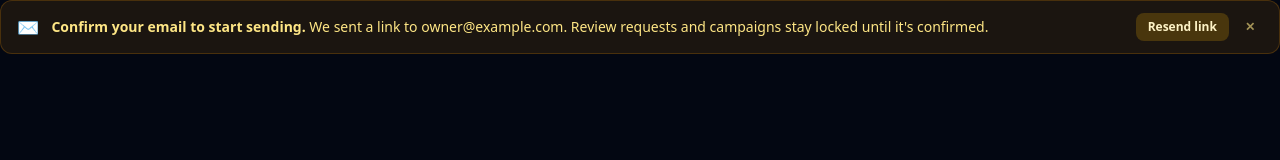
Test: when there is something to do › resending calls the API and confirms
Step 1. Click the button "Resend link" → (1182, 27), box [1136,13,1229,41]
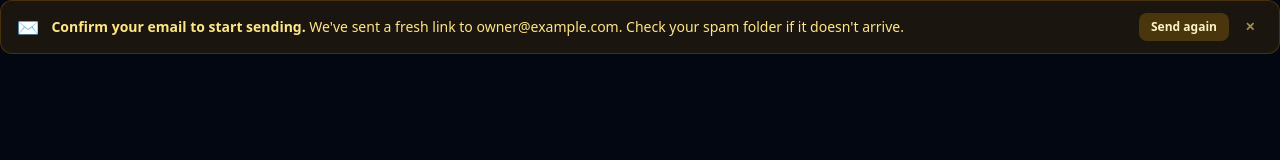
Expected: the button "Send again" is shown, [1139,13,1229,41]
